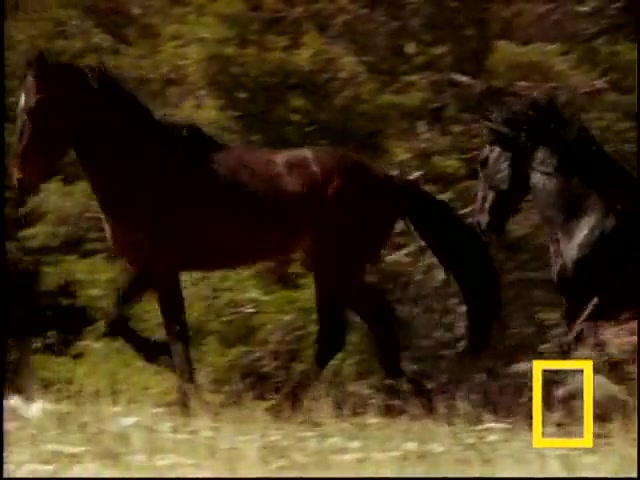horse: (9, 51, 508, 425)
